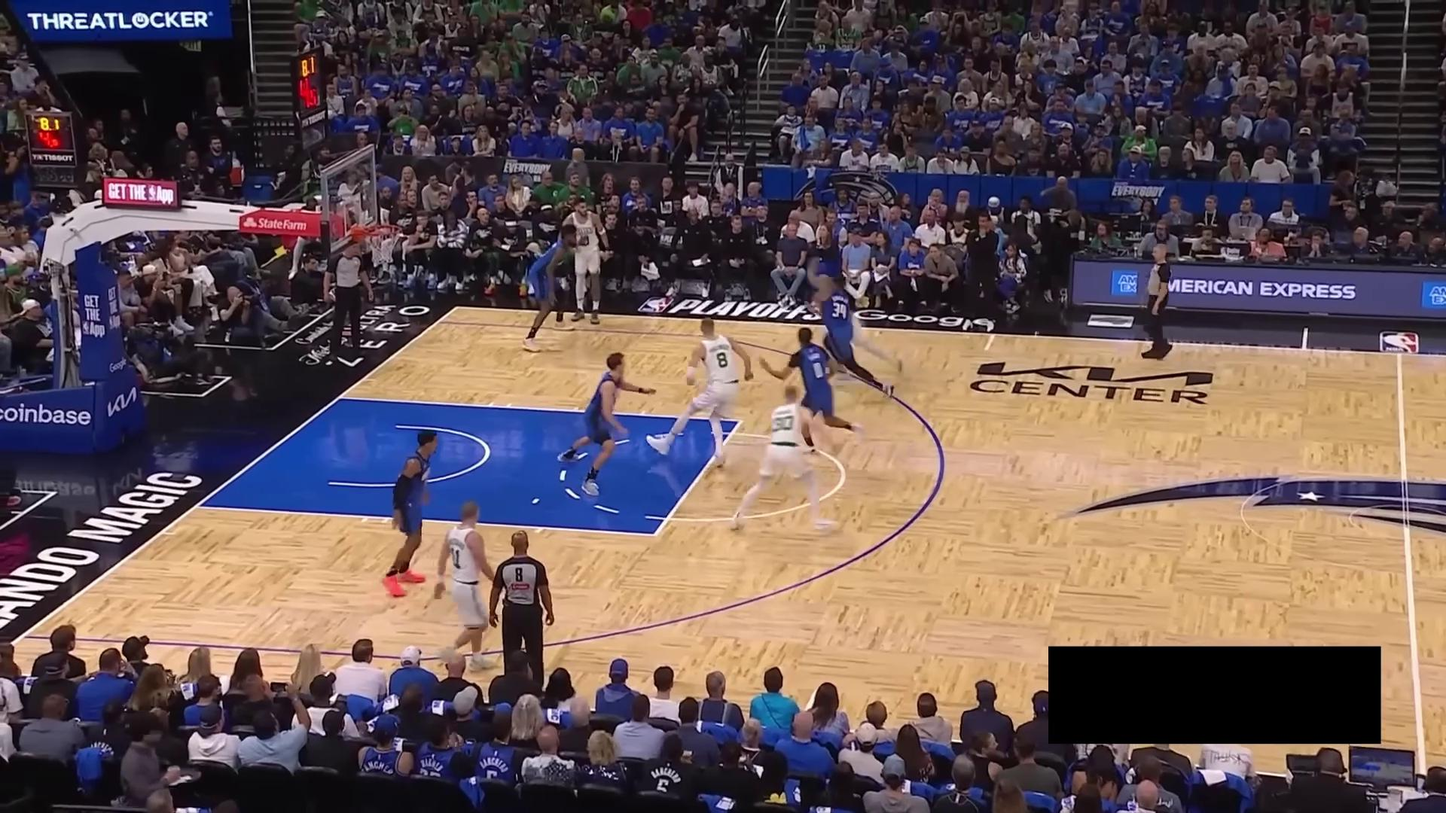number: (769, 416, 798, 433), (812, 360, 824, 381), (832, 302, 847, 318), (716, 351, 729, 368), (582, 233, 590, 247)
player: (644, 314, 758, 469), (731, 381, 837, 534), (756, 324, 867, 454), (559, 352, 657, 497), (805, 260, 897, 397), (431, 501, 500, 671), (381, 425, 448, 598), (804, 286, 906, 377), (520, 219, 586, 353), (556, 195, 611, 327)
referee: (484, 523, 560, 692), (320, 239, 375, 362), (1138, 242, 1181, 363)
rim: (361, 224, 406, 236)
